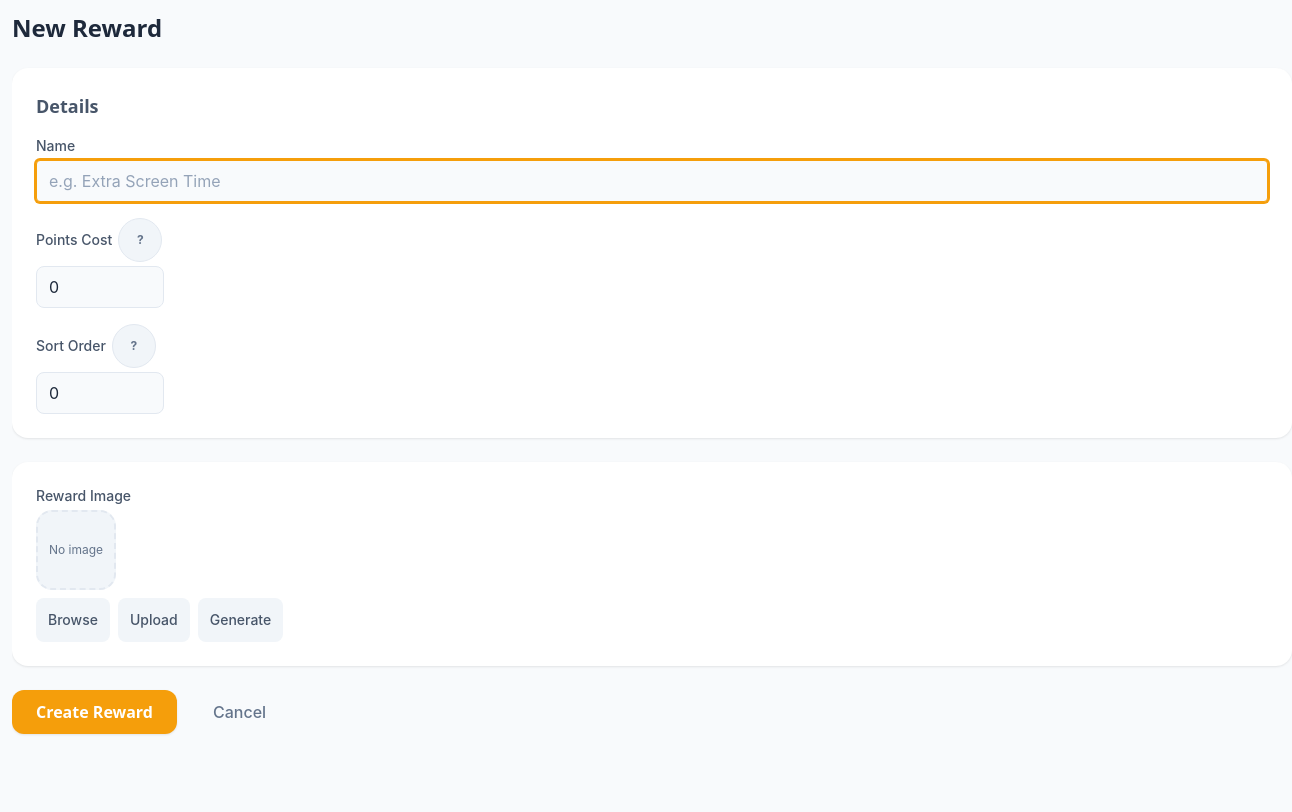
Test: AdminRewardForm › shows validation error when name is empty
This screenshot has width=1292, height=812.
What coordinates should you click on to do the following:
click the button "Create Reward"
I would click on:
 (94, 712)
Its box is [12,690,177,734].
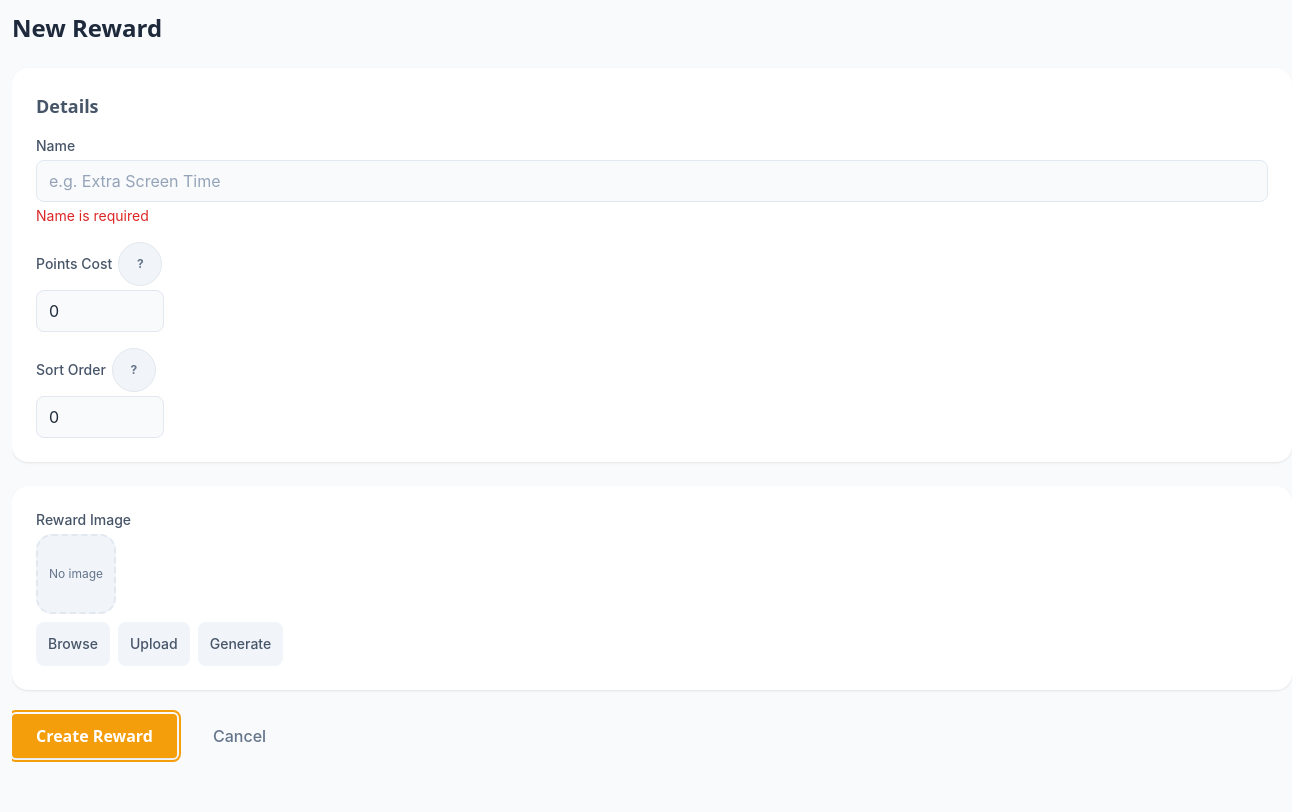
Expected: the text "Name is required" is shown, [36,207,149,224]
